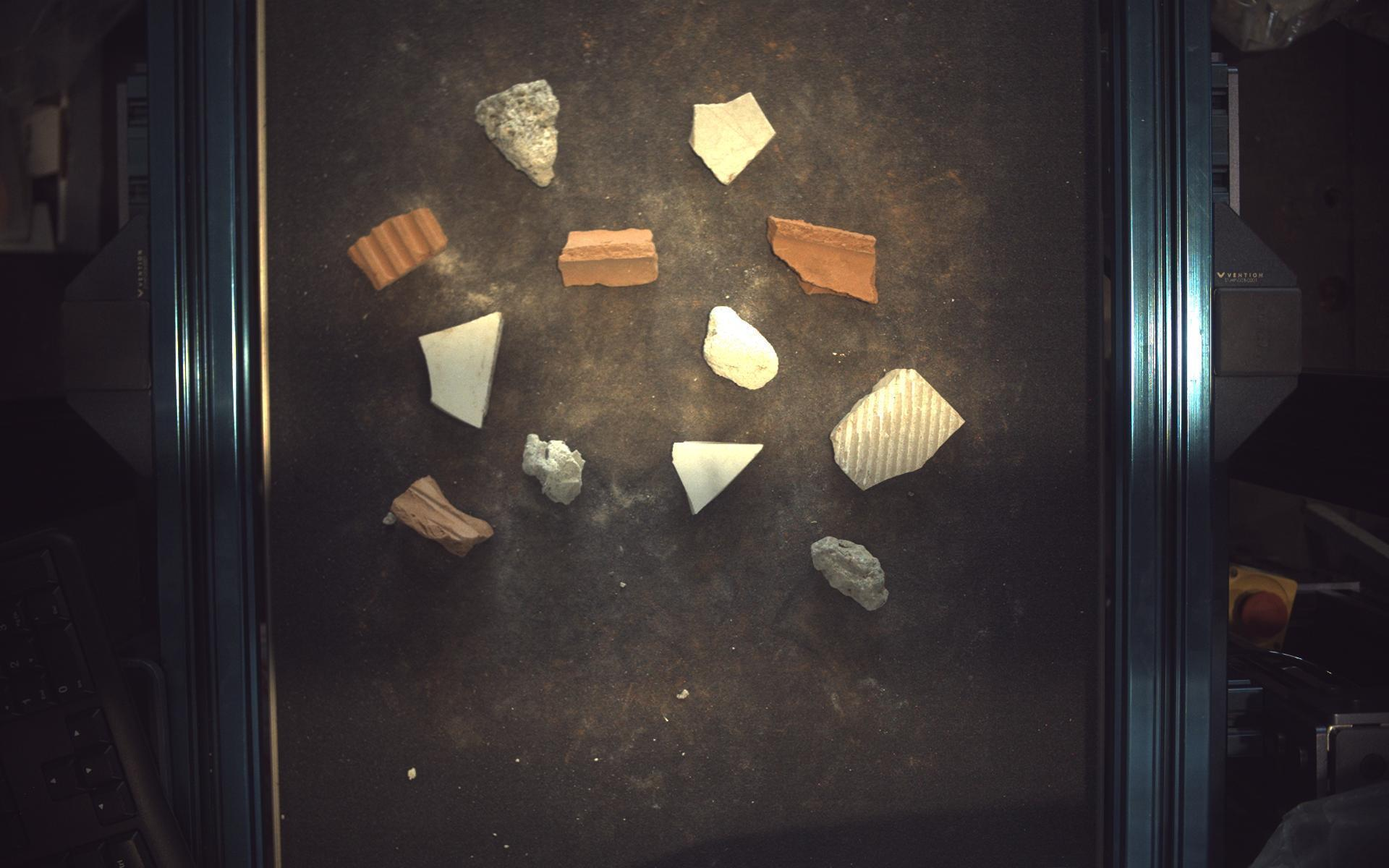brick: (769, 216, 878, 302), (347, 207, 448, 290), (391, 476, 493, 557), (559, 228, 658, 286)
concrete: (476, 78, 560, 186), (704, 305, 778, 390), (812, 537, 891, 612), (524, 434, 585, 506)
tile: (833, 368, 966, 490), (419, 311, 503, 427), (691, 92, 777, 183), (674, 441, 764, 514)
